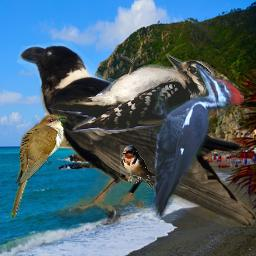Crow: (17, 39, 255, 227)
Cuckoo: (10, 114, 67, 219)
Swallow: (120, 145, 156, 191)
Woodpecker: (149, 57, 244, 224), (45, 53, 224, 137)
